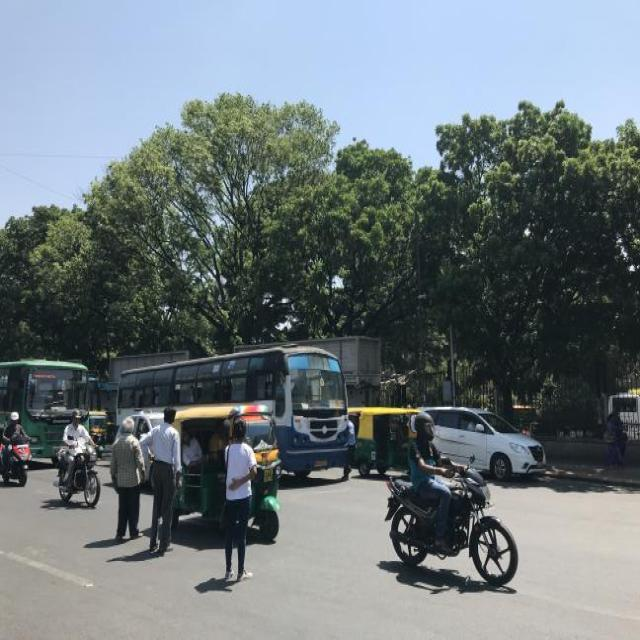autorickshaw: (172, 405, 281, 541), (349, 407, 418, 476)
bus: (119, 345, 348, 474), (0, 362, 89, 459)
car: (425, 409, 544, 479)
motorcycle: (385, 412, 518, 586), (58, 408, 100, 507), (0, 412, 31, 486)
